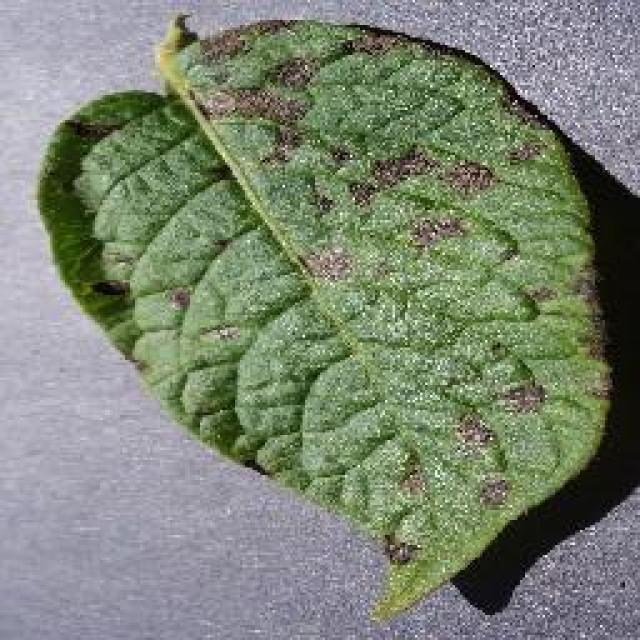Potato___Early_blight: (37, 11, 614, 627)
